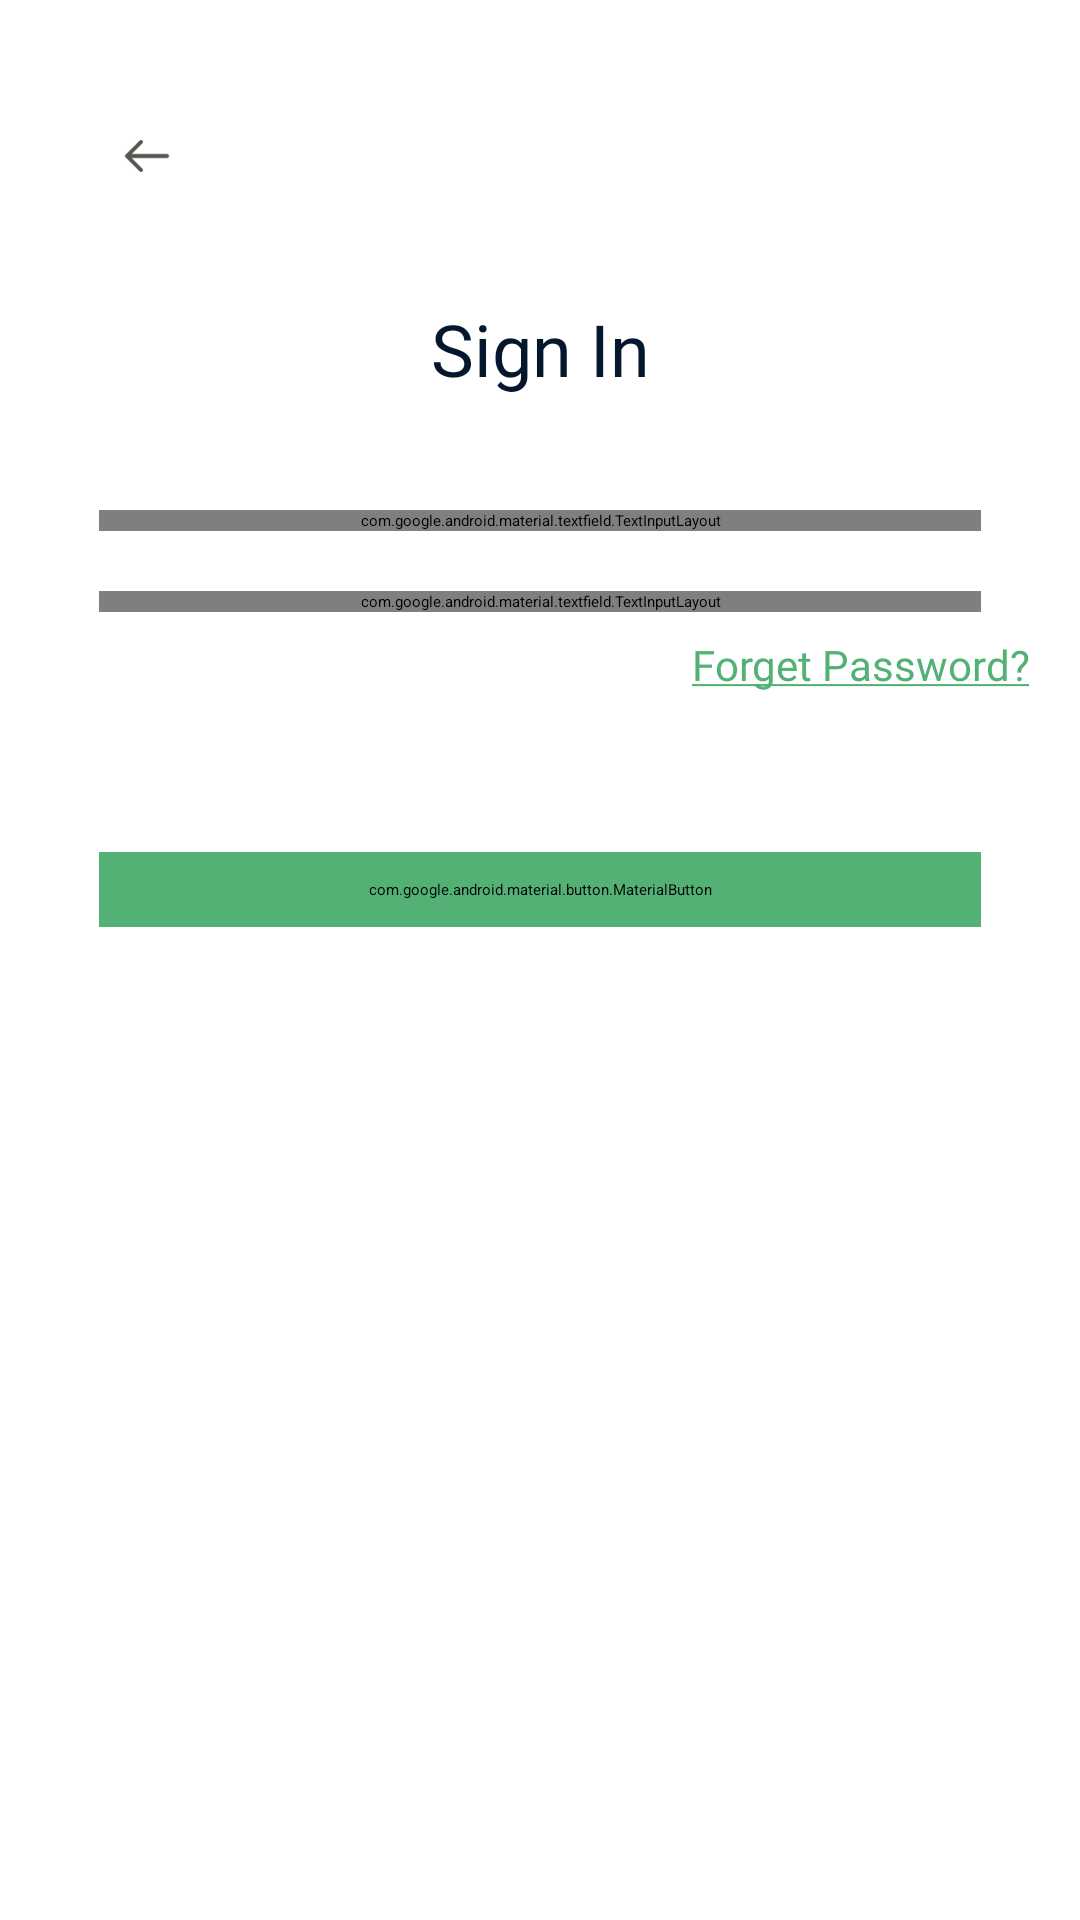

Where to tap for icons on this 1080px x 1920px app screen, as (x=x, y=y):
back: (x=147, y=156)
